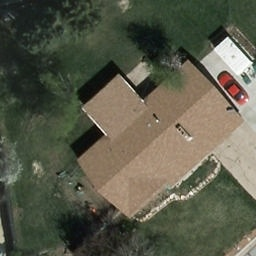car: (215, 69, 253, 107)
